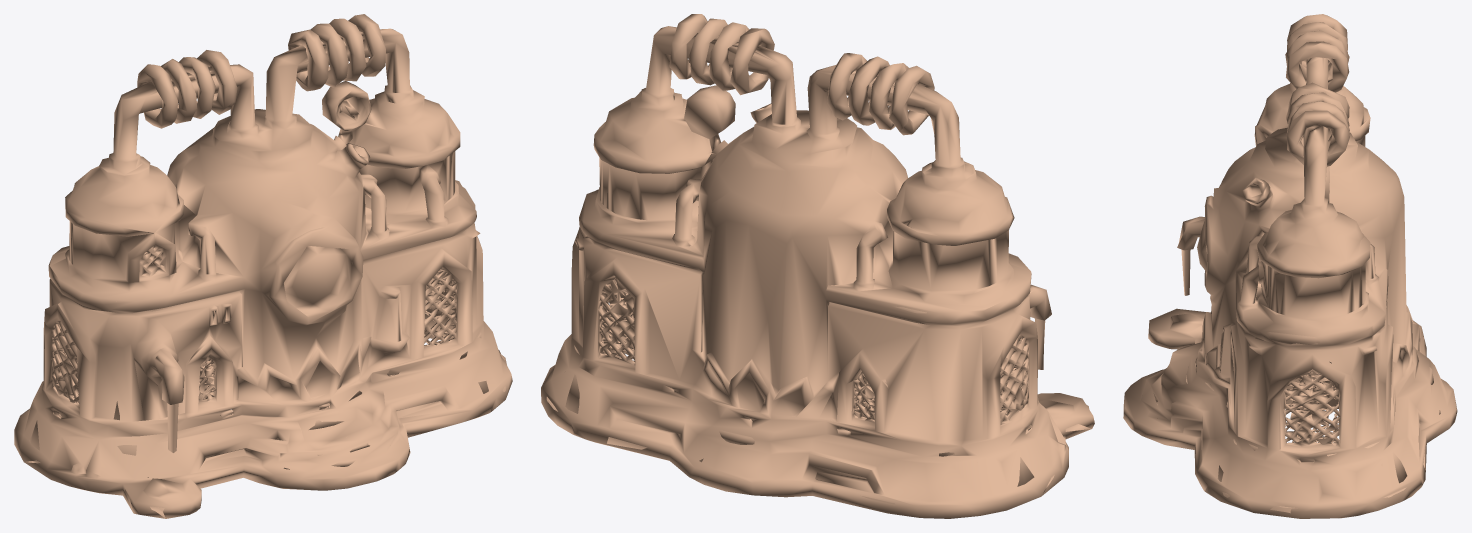
The model's file is sabatier_reactor.glb.
3 views of the same model, side by side, from view 1: azimuth 30°, elevation 25°; view 2: azimuth 150°, elevation 25°; view 3: azimuth 270°, elevation 25° (orthographic). The views are drawn at different scales.
Visible parts, largest first — view 1: node_0; view 2: node_0; view 3: node_0.
Boxes of the visible parts, x1,y1,x2,y2 form: node_0: [14, 14, 512, 518]; node_0: [541, 14, 1094, 518]; node_0: [1123, 14, 1457, 518].
Size of the model in its own units: 2.75 by 2.1 by 1.81.
